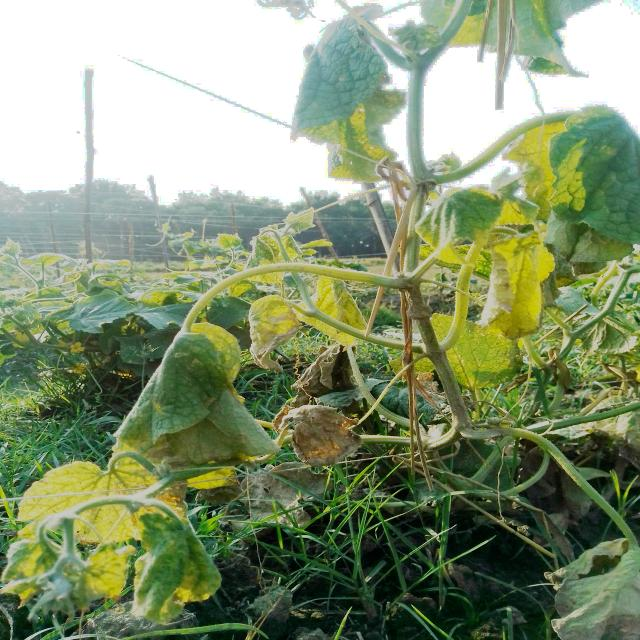Bacterial-Wilt: (272, 403, 365, 470), (291, 343, 355, 405)
